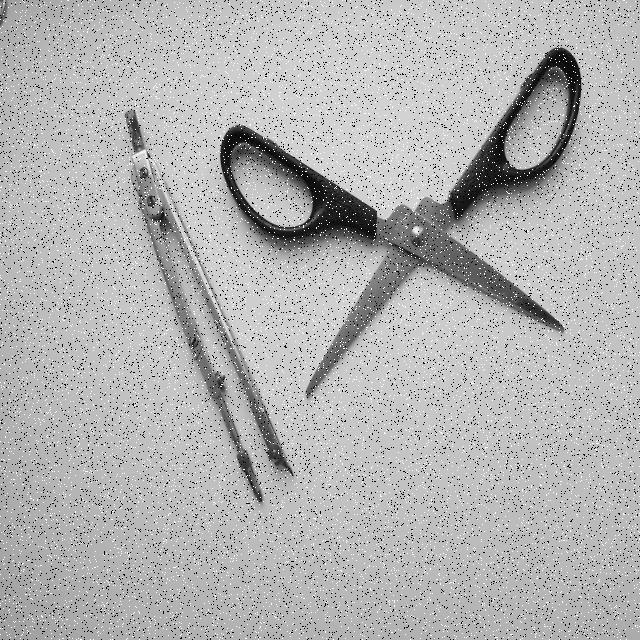scissors: (202, 28, 598, 424)
